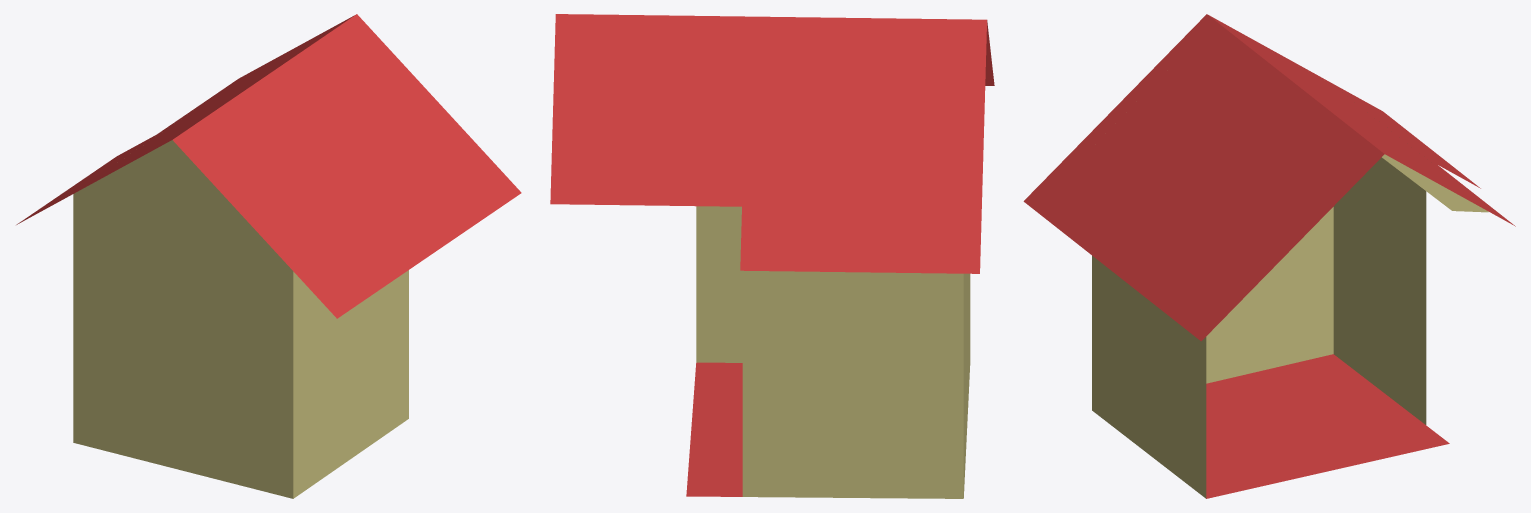
The picture shows the model from 3 angles, left to right: view 1: azimuth 30°, elevation 25°; view 2: azimuth 150°, elevation 25°; view 3: azimuth 270°, elevation 25°; orthographic projection. The views are drawn at different scales.
Size of the model in its own units: 18.39 by 17.29 by 13.97.
